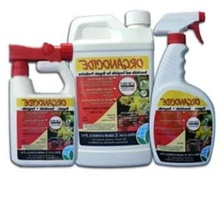insecticide: (65, 8, 158, 171), (147, 9, 217, 169), (3, 40, 82, 171)
